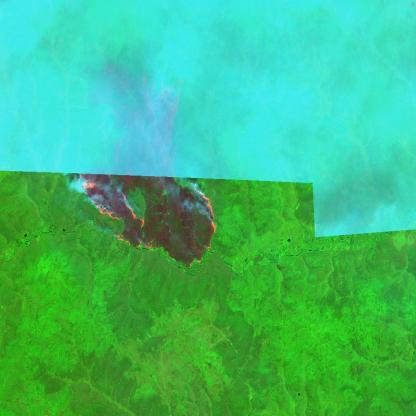fire: (76, 172, 220, 272)
